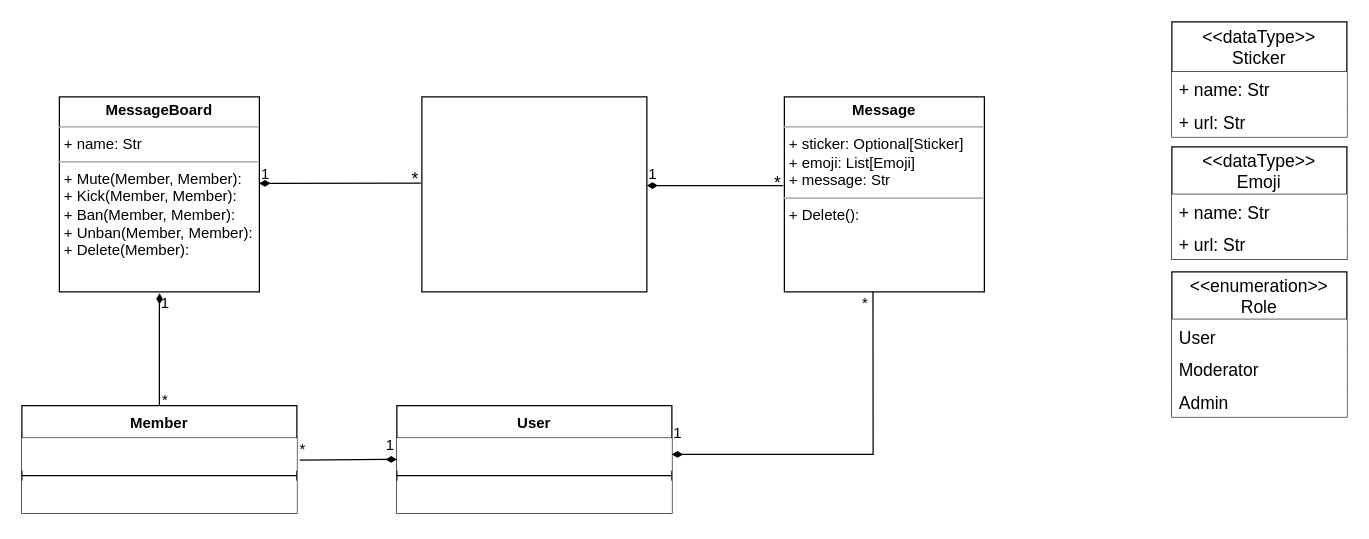
This 1369x539 diagram has some shape labels left out. The shapes that lost their labels are listed below. From the top down, each one's box as (x1, y1, x2, y2) in pixels, then its label:
(421, 96, 647, 292): Chat + name: Str + PostMessage(Message):
(21, 438, 296, 470): + role: Role
(396, 438, 671, 470): + handle: Str
(21, 480, 296, 512): + Leave():
(396, 480, 671, 512): + CreateBoard(Str): MessageBoard
